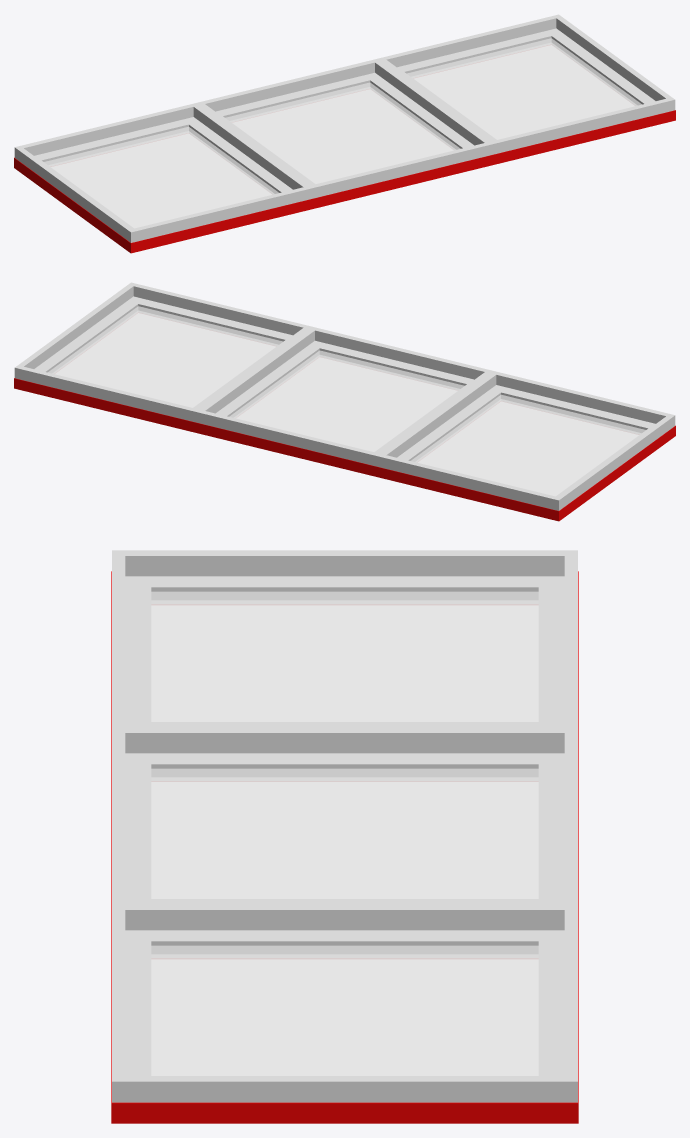
Rendered from 3_windows.glb.
3 views of the same model, one above another, from view 1: azimuth 30°, elevation 25°; view 2: azimuth 150°, elevation 25°; view 3: azimuth 270°, elevation 25° (orthographic). The views are drawn at different scales.
Parts seen in each view (by area): view 1: 3DGeom-5, 3DGeom-3, 3DGeom-1; view 2: 3DGeom-5, 3DGeom-3, 3DGeom-1; view 3: 3DGeom-5, 3DGeom-3, 3DGeom-1.
Part boxes in pixels (x1,y1,x2,y2): 3DGeom-5: (44,38,641,228); 3DGeom-3: (14,14,675,242); 3DGeom-1: (14,110,675,253); 3DGeom-5: (48,306,645,496); 3DGeom-3: (14,282,675,510); 3DGeom-1: (14,378,675,521); 3DGeom-5: (151,591,538,1075); 3DGeom-3: (112,550,577,1102); 3DGeom-1: (111,571,578,1123).
Bounding box in the file's own units: 2.14 × 0.0778 × 0.7937.
